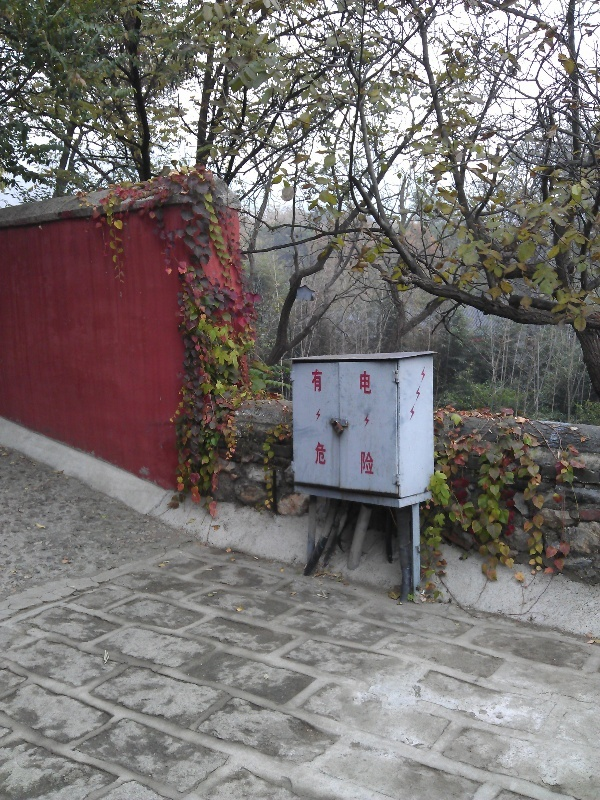text: (321, 441, 336, 476), (337, 441, 352, 476), (353, 441, 368, 476), (321, 370, 336, 396), (337, 370, 352, 396), (353, 370, 368, 396), (369, 441, 376, 476), (311, 370, 320, 396), (314, 441, 320, 476), (369, 370, 372, 396)
